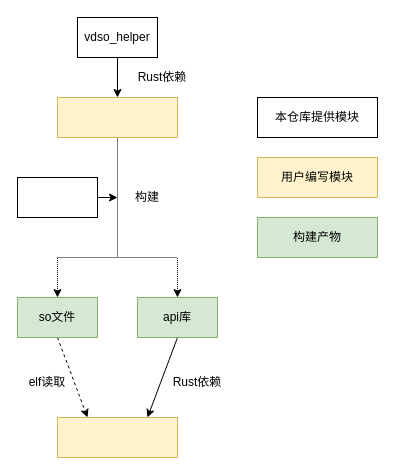
This 395x475 diagram has some shape labels left out. The centre of each missing label's shape, as x and y in pixels:
"build_vdso" goes at [57,197].
"vDSO外部代码" goes at [117,437].
"（vDSO内部） 功能代码" goes at [117,117].
